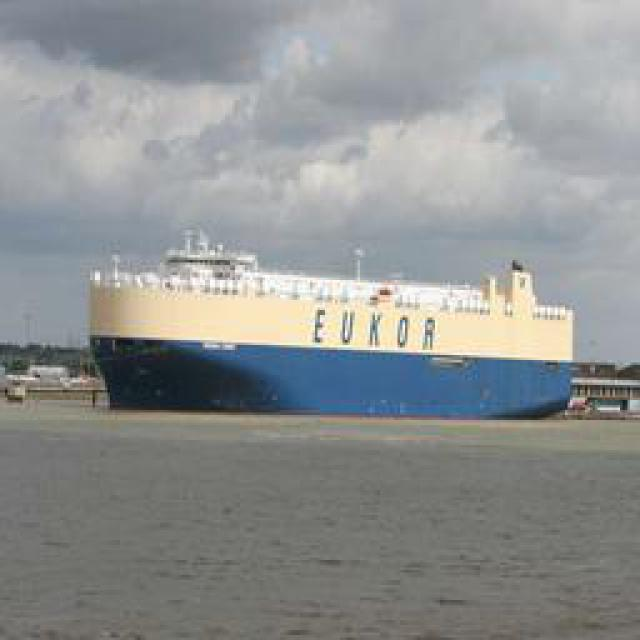Ship: (91, 232, 604, 415)
